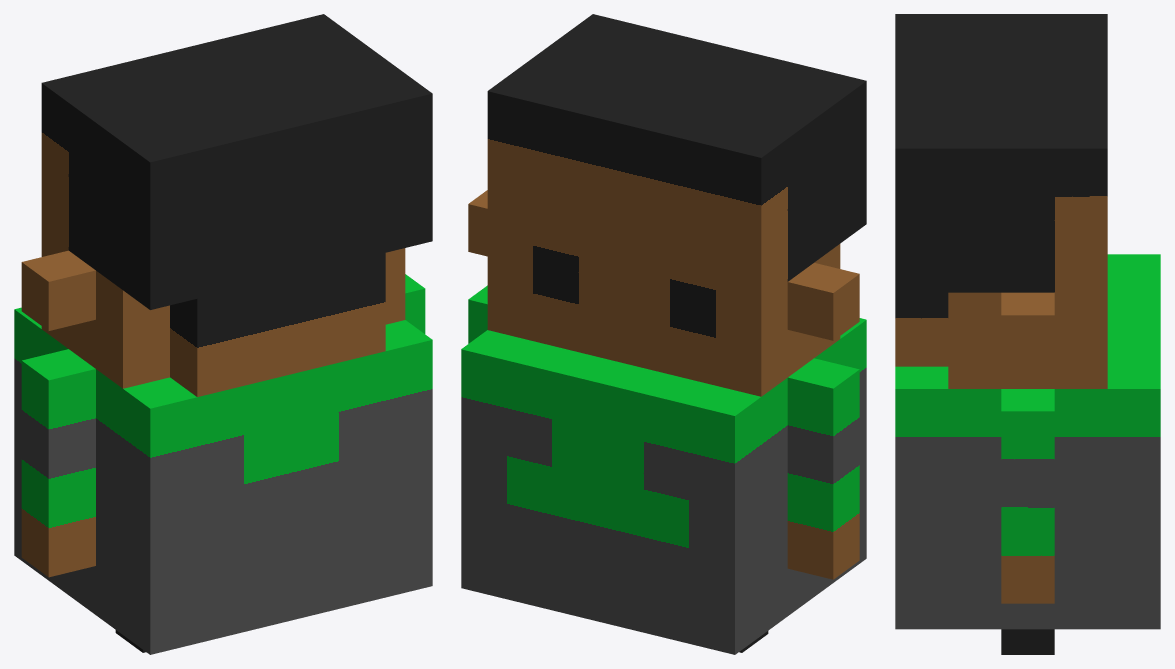
File: chr_sports1.dae
3 views of the same model, side by side, from view 1: azimuth 30°, elevation 25°; view 2: azimuth 150°, elevation 25°; view 3: azimuth 270°, elevation 25° (orthographic). The views are drawn at different scales.
Parts seen in each view (by area): view 1: chr_sports1; view 2: chr_sports1; view 3: chr_sports1.
Boxes of the visible parts, x1,y1,x2,y2 form: chr_sports1: [14, 14, 432, 654]; chr_sports1: [461, 14, 866, 654]; chr_sports1: [895, 14, 1160, 654].
Bounding box in the file's own units: 0.8 × 0.5 × 1.1.
